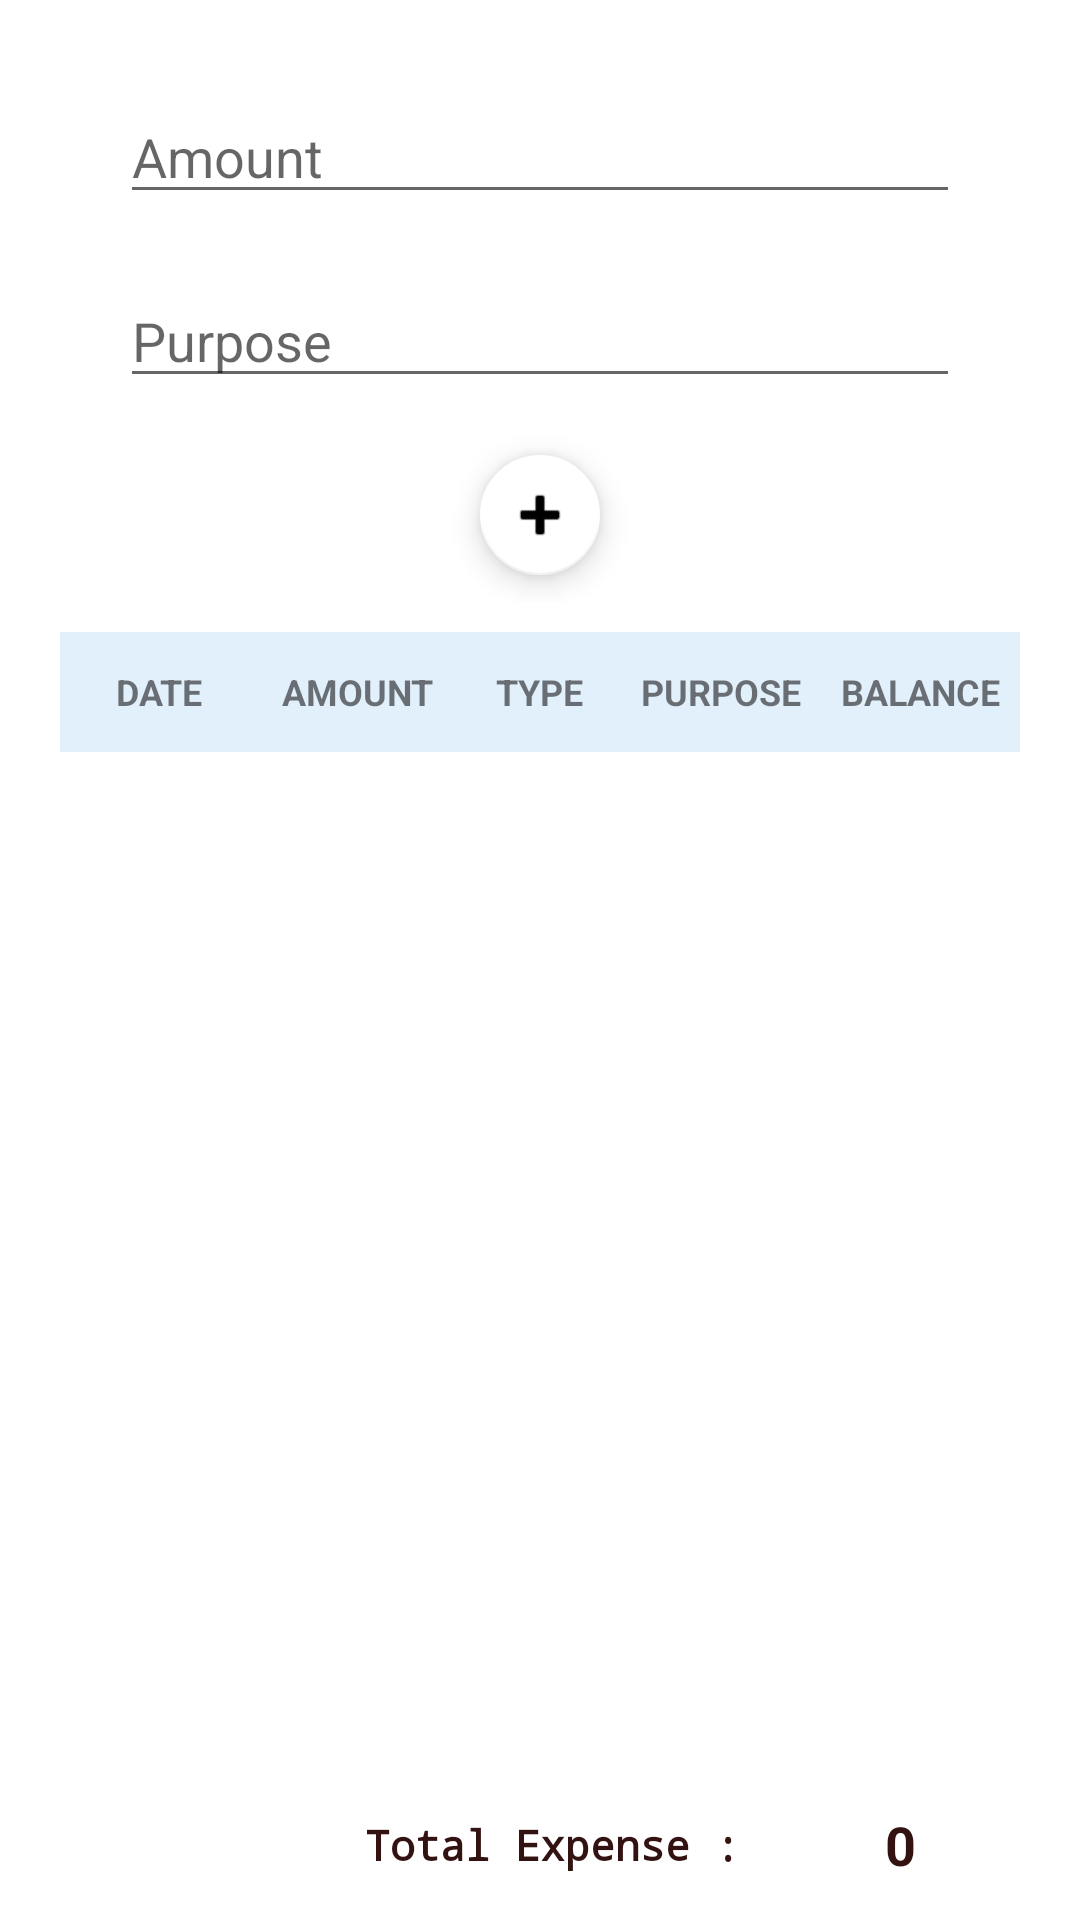

Icon click points for this 1080*1920 phone screenshot, format (x,y):
add: (540,536)
